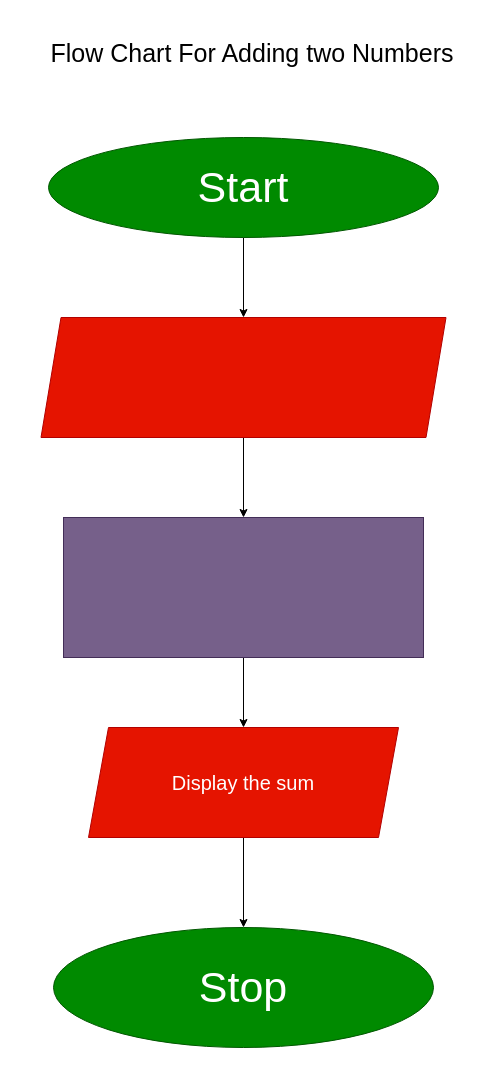
The diagram is 504 pixels wide and 1065 high, and some of its shapes have lost their labels. The centre of each missing label's shape, as x and y in pixels:
"Number1=user input Number2=user input" goes at pixel 243 377.
"Sum= Number1 + Number2" goes at pixel 243 587.
